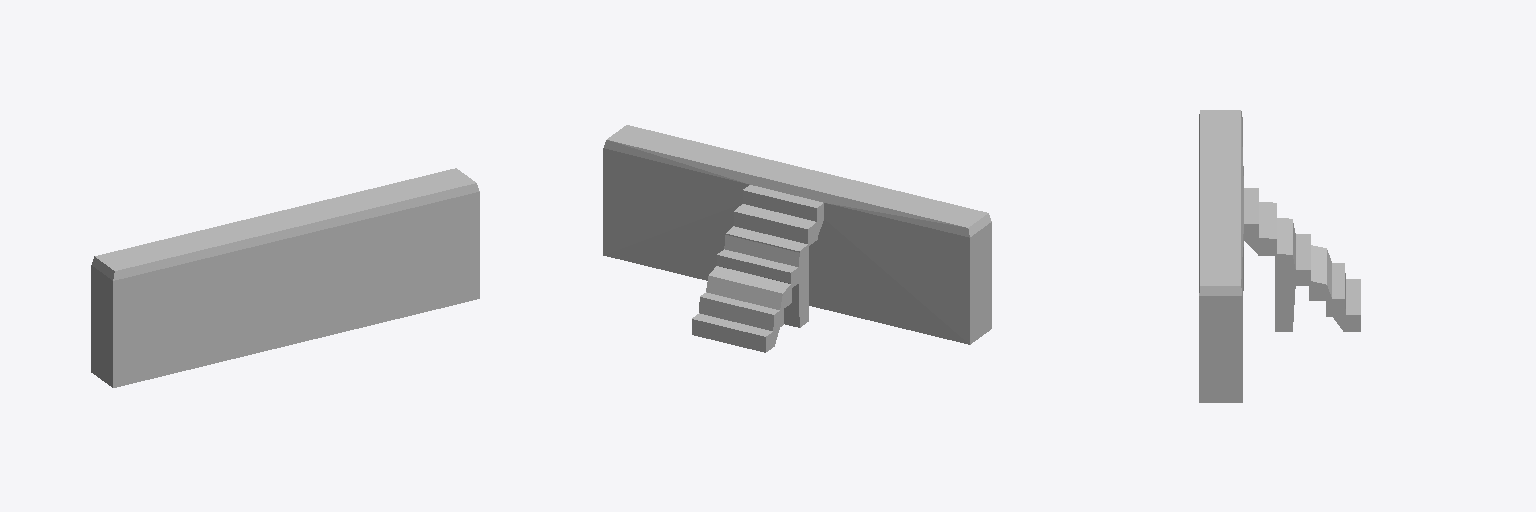
The model's file is y_full_wall.obj.
The picture shows the model from 3 angles: view 1: azimuth 30°, elevation 25°; view 2: azimuth 150°, elevation 25°; view 3: azimuth 270°, elevation 25°; orthographic projection.
Parts seen in each view (by area): view 1: convex_0; view 2: convex_0, convex_9, convex_2, convex_7, convex_5, convex_4, convex_8, convex_1, convex_3; view 3: convex_0, convex_2, convex_9, convex_7, convex_5, convex_4, convex_1, convex_8, convex_3.
Part boxes in pixels (x1,y1,x2,y2): convex_0: (91,168,479,387); convex_0: (603,125,991,344); convex_9: (706,266,791,310); convex_2: (724,235,808,327); convex_7: (734,204,823,243); convex_5: (699,292,779,346); convex_4: (692,313,772,352); convex_8: (743,185,823,221); convex_1: (717,249,797,287); convex_3: (726,226,817,252); convex_0: (1199,110,1243,402); convex_2: (1275,223,1295,331); convex_9: (1309,245,1331,300); convex_7: (1244,202,1276,253); convex_5: (1332,263,1345,331); convex_4: (1346,279,1360,331); convex_1: (1296,234,1310,285); convex_8: (1244,188,1258,237); convex_3: (1258,218,1292,255).
Bounding box in the file's own units: 500 × 151 × 191.